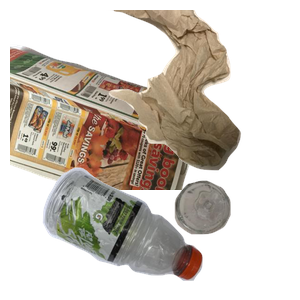glass: (172, 178, 300, 300)
paper: (10, 42, 224, 222)
plastic: (40, 165, 235, 300)
trash: (103, 10, 300, 173)
